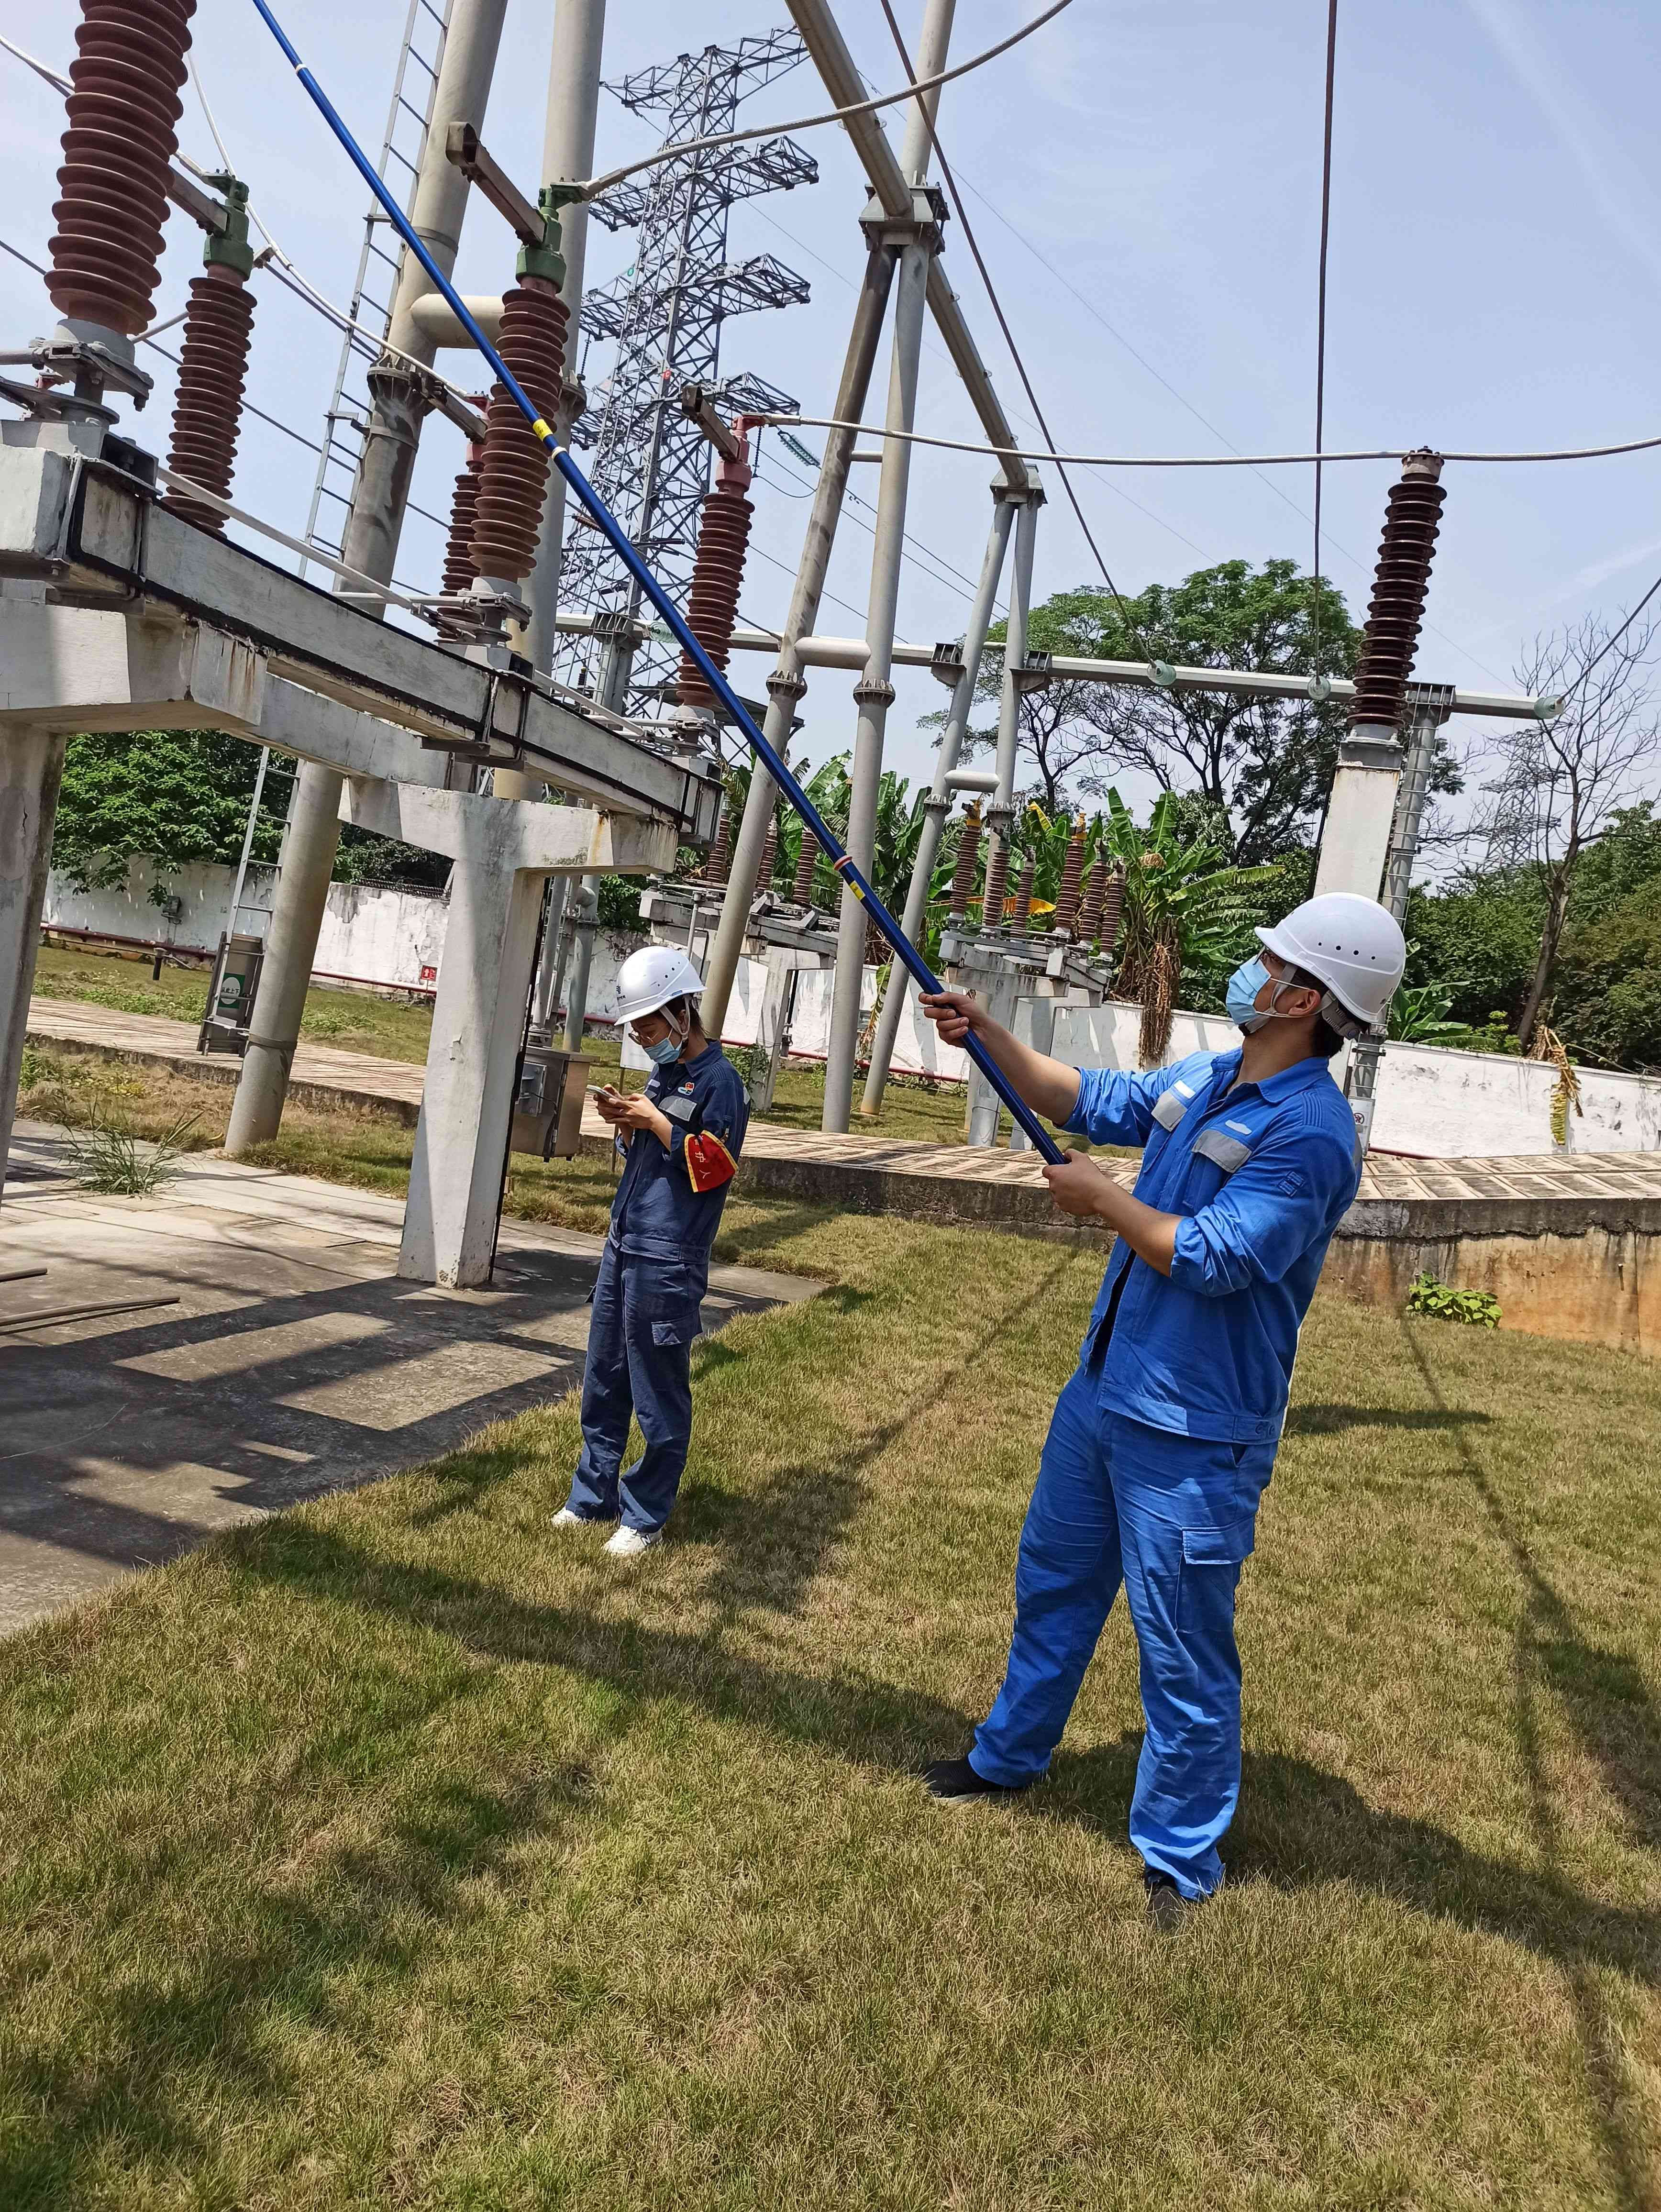downsuit: (953, 1458, 1281, 1893), (579, 1266, 703, 1518)
upsuit: (1073, 1026, 1377, 1423), (605, 1048, 755, 1251)
wrongsuit: (1085, 1066, 1258, 1406)
wrongtop: (926, 994, 1125, 1141), (1045, 1151, 1241, 1300)
